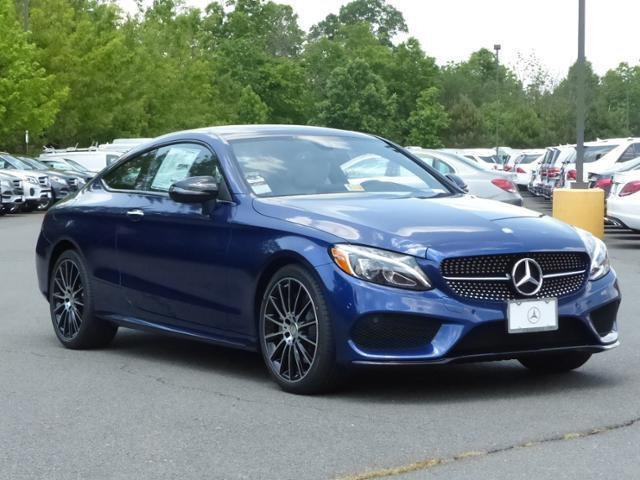C300Coupe: (35, 109, 623, 389)
